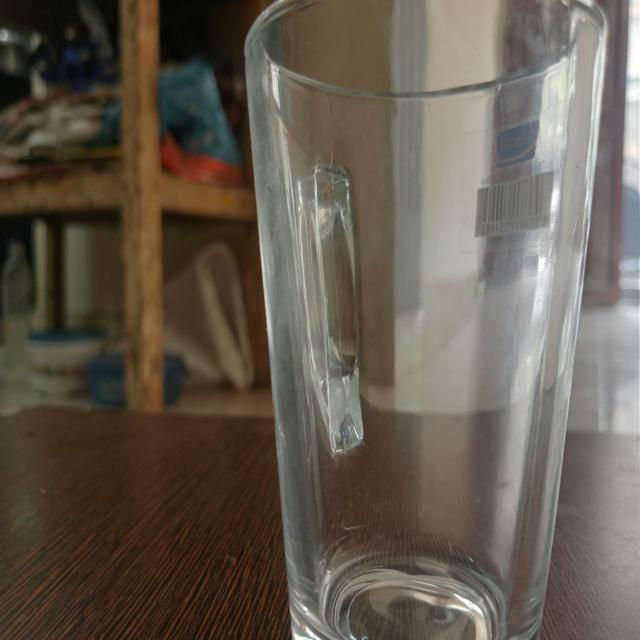glass-VX4N: (241, 0, 614, 640)
